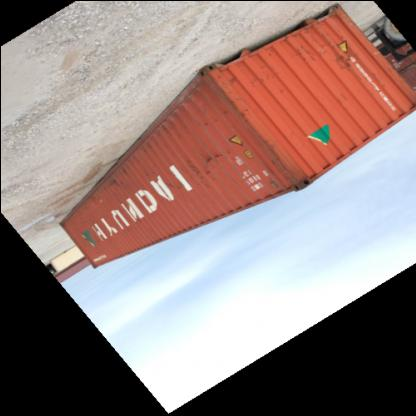Damage: (199, 66, 248, 132), (181, 147, 235, 191), (260, 142, 304, 196), (298, 27, 326, 65), (107, 163, 136, 194), (247, 42, 284, 66), (158, 110, 186, 141), (332, 48, 358, 76), (158, 177, 176, 190)
